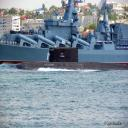submarine: (12, 45, 128, 70)
